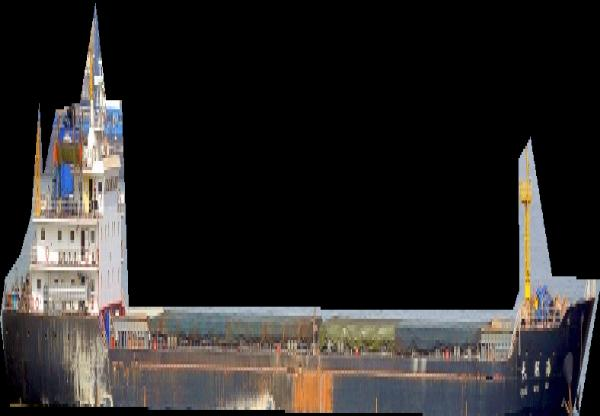Bulkers: (0, 3, 600, 416)
